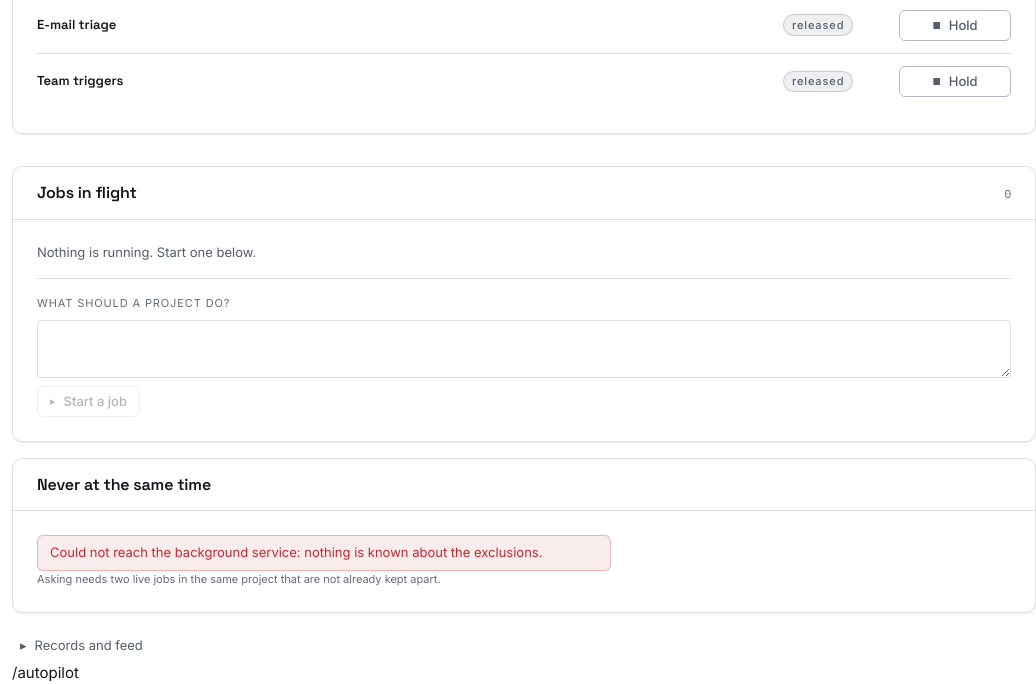
Test: Autopilot - the overnight and barrier records › gives the refused actions no buttons at all
The image size is (1036, 684).
(page scrolled)
Click the button "Records and feed": (81, 645) [12,629,151,661]
(page scrolled)
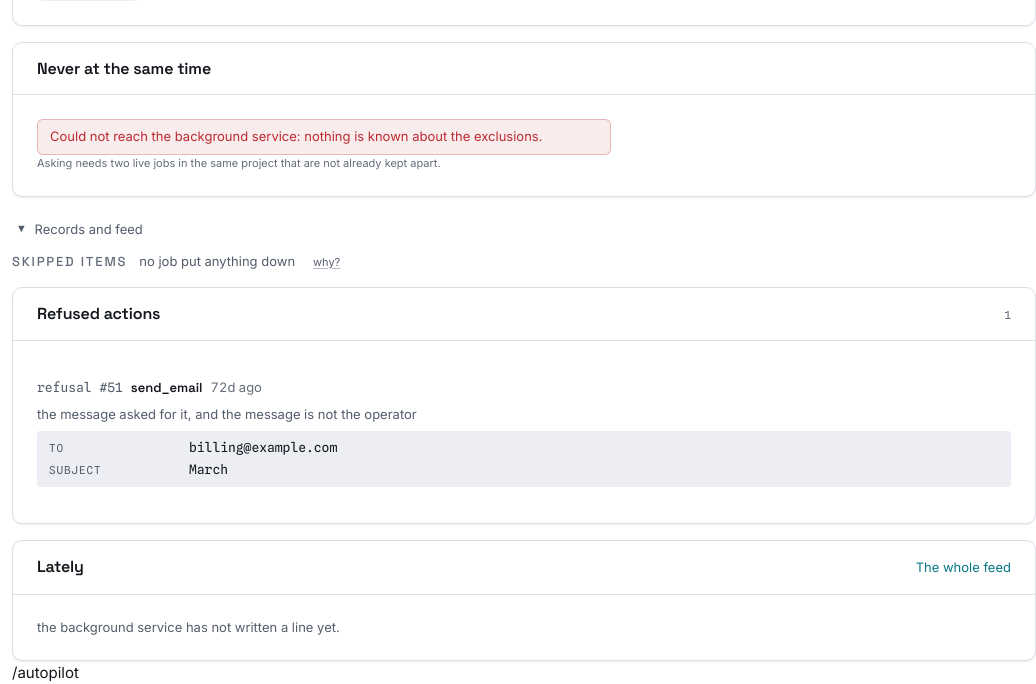
Expected: the element "Refused actions" is shown, [12,286,1035,524]
Expected: the text "send_email" is shown, [131,378,202,398]
Expected: the text "billing@example.com" is shown, [189,439,337,455]
